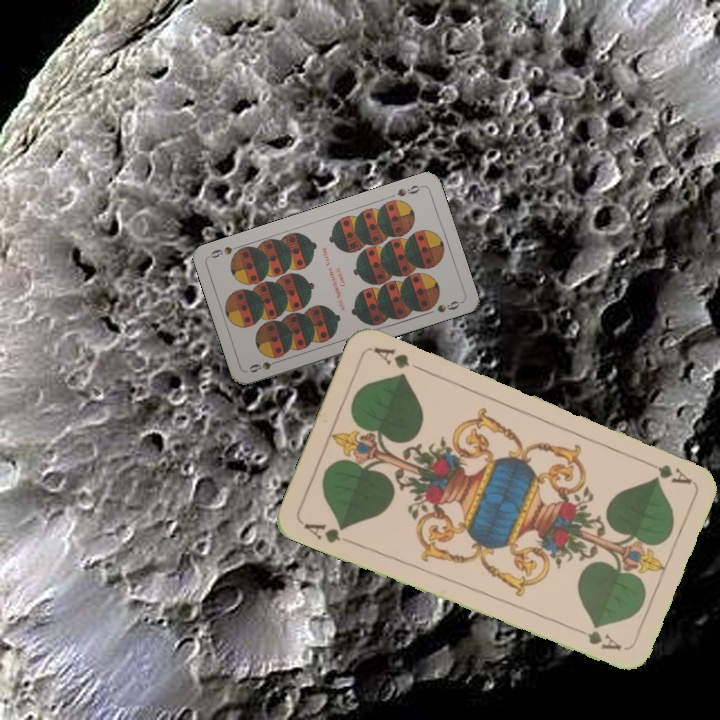GA: (637, 455, 694, 487), (299, 518, 355, 547)
S9: (245, 352, 284, 375), (393, 181, 425, 199)
